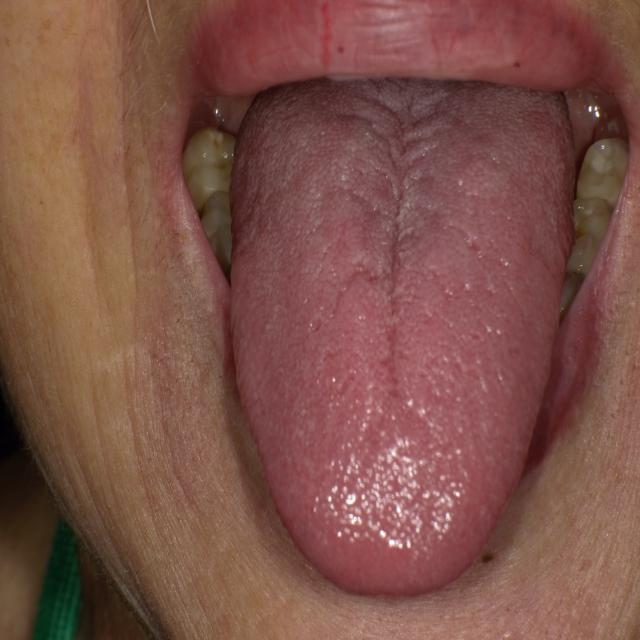baitaishe: (229, 79, 578, 596)
hongshe: (229, 79, 578, 596)
liewenshe: (337, 84, 447, 400)
